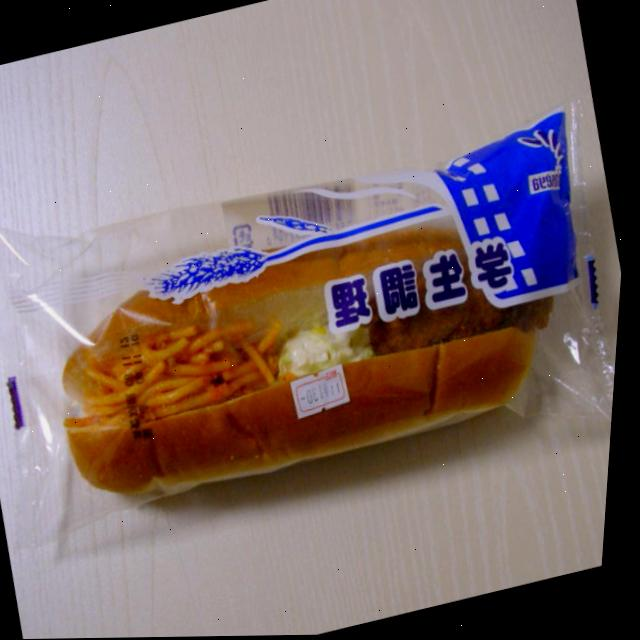三明治: (0, 47, 637, 602)
